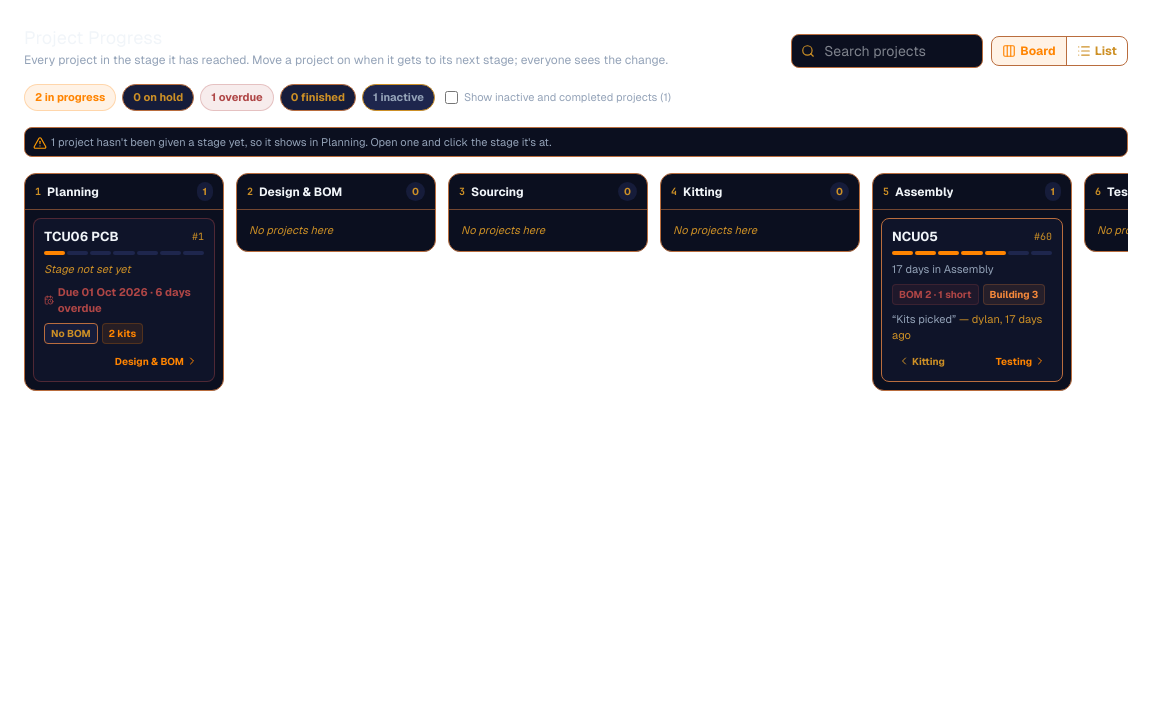
Test: ProjectProgressView › lists the projects, and moves one from the list
The image size is (1152, 720).
Click the button "List": (1096, 51) [1066,37,1127,65]
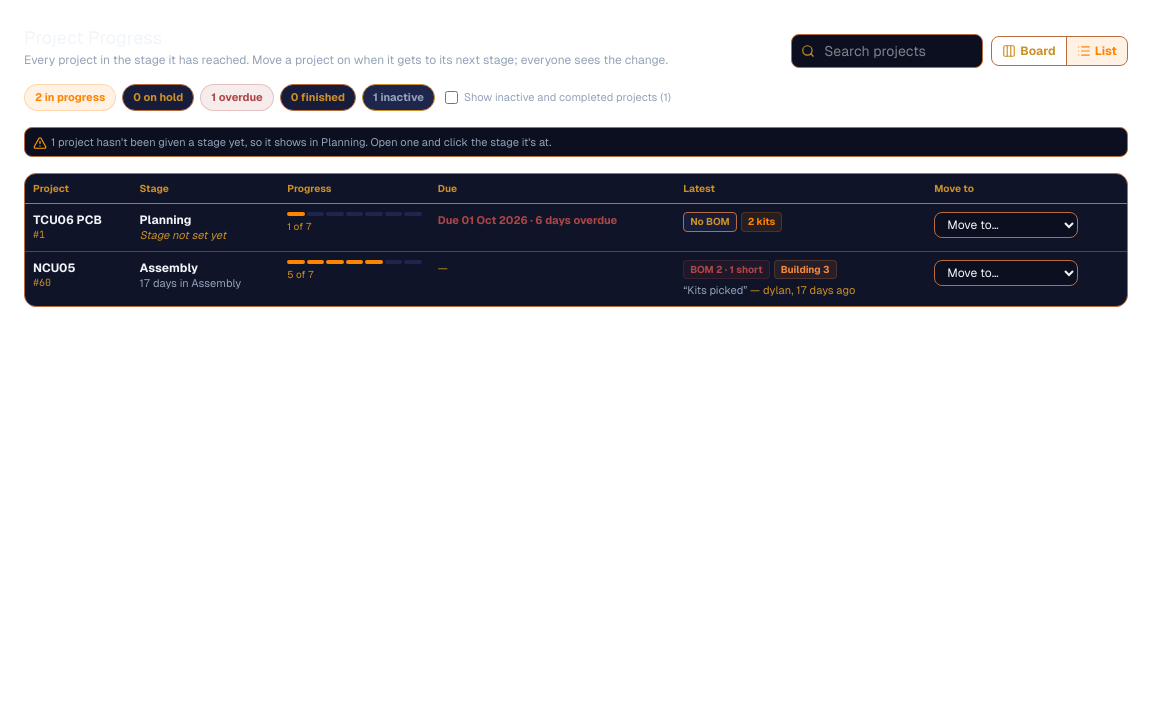
expect the row that starts with "NCU05" shows "5 of 7": met, box [25,252,1127,306]
Select "Complete" in the dropdown named "Move NCU05 to": (1006, 273) [934,260,1078,286]
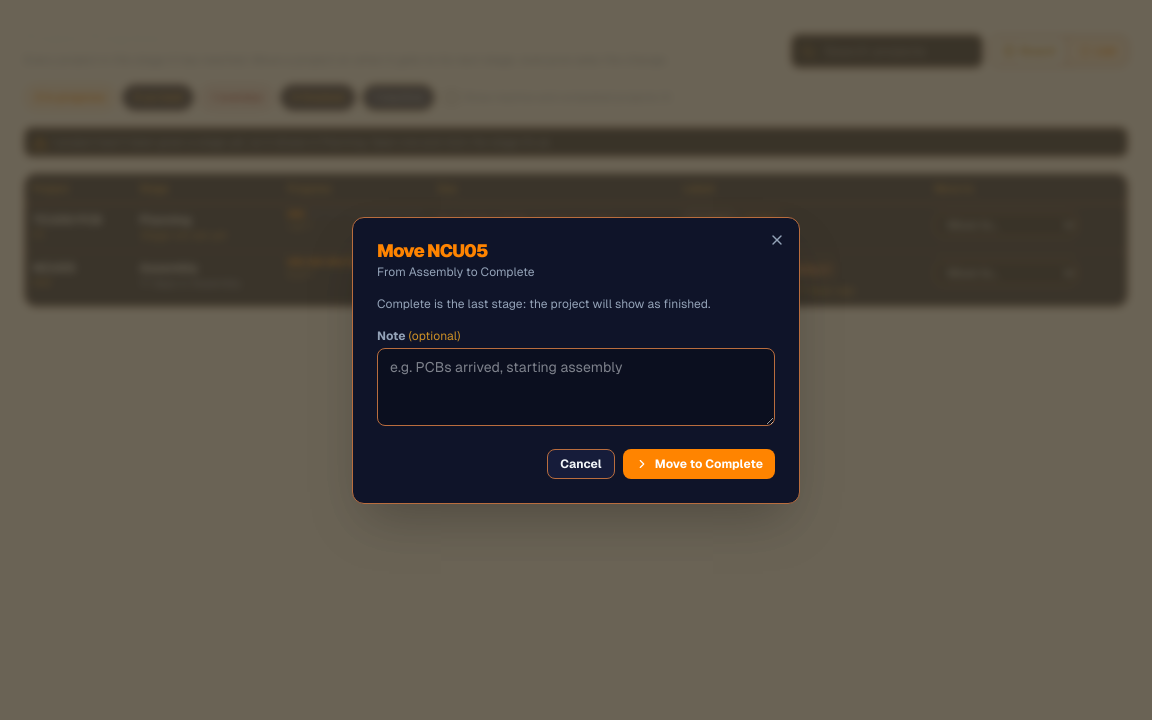
expect the text "Complete is the last stage: the project will show as finished." is shown: met, box [377,296,710,310]
